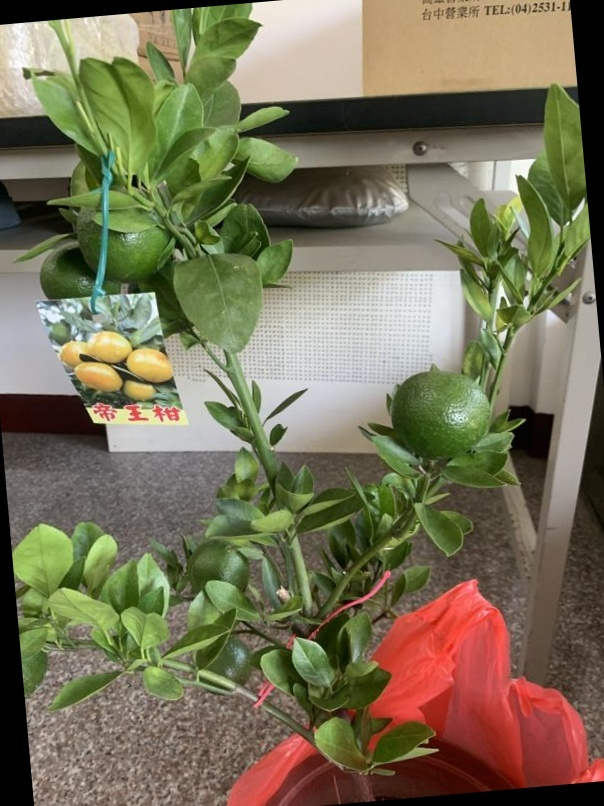Tangerine: (392, 367, 493, 464)
